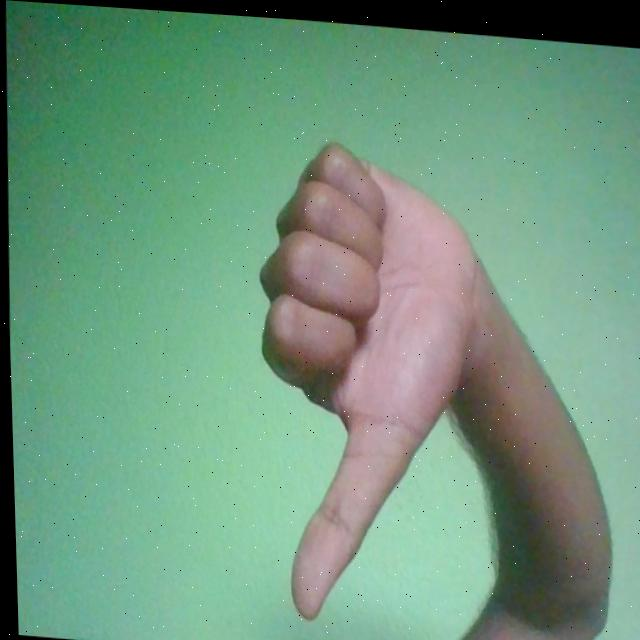Dislike: (249, 134, 489, 628)
